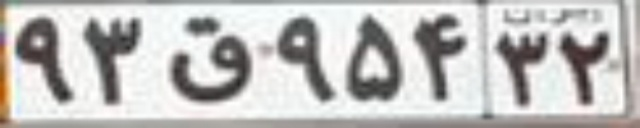2: (558, 29, 613, 105)
3: (84, 15, 142, 104), (493, 30, 550, 106)
4: (412, 12, 468, 101)
5: (342, 14, 400, 102)
9: (14, 15, 73, 104), (277, 16, 333, 102)
ghaf: (166, 15, 255, 103)
